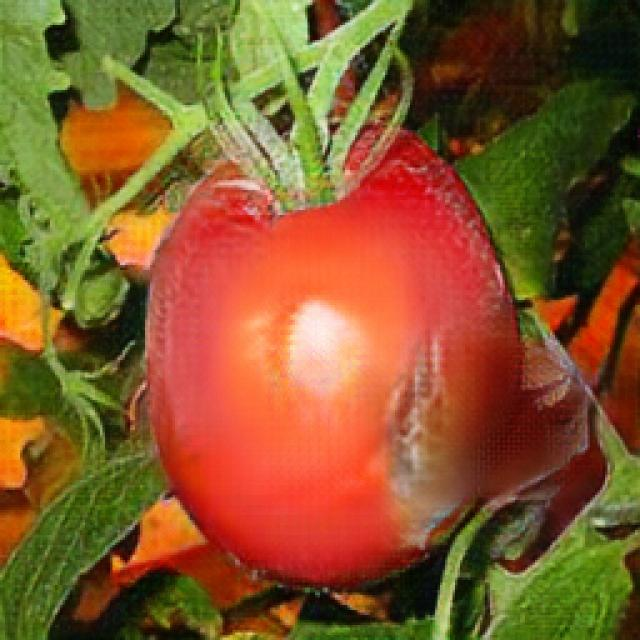overripe tomato: (137, 124, 529, 587)
